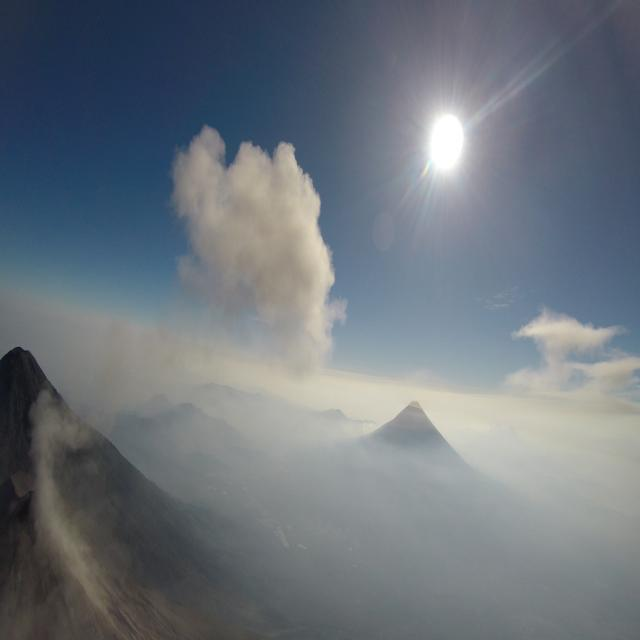Plume: (162, 118, 352, 376)
Summit: (18, 493, 80, 536)
